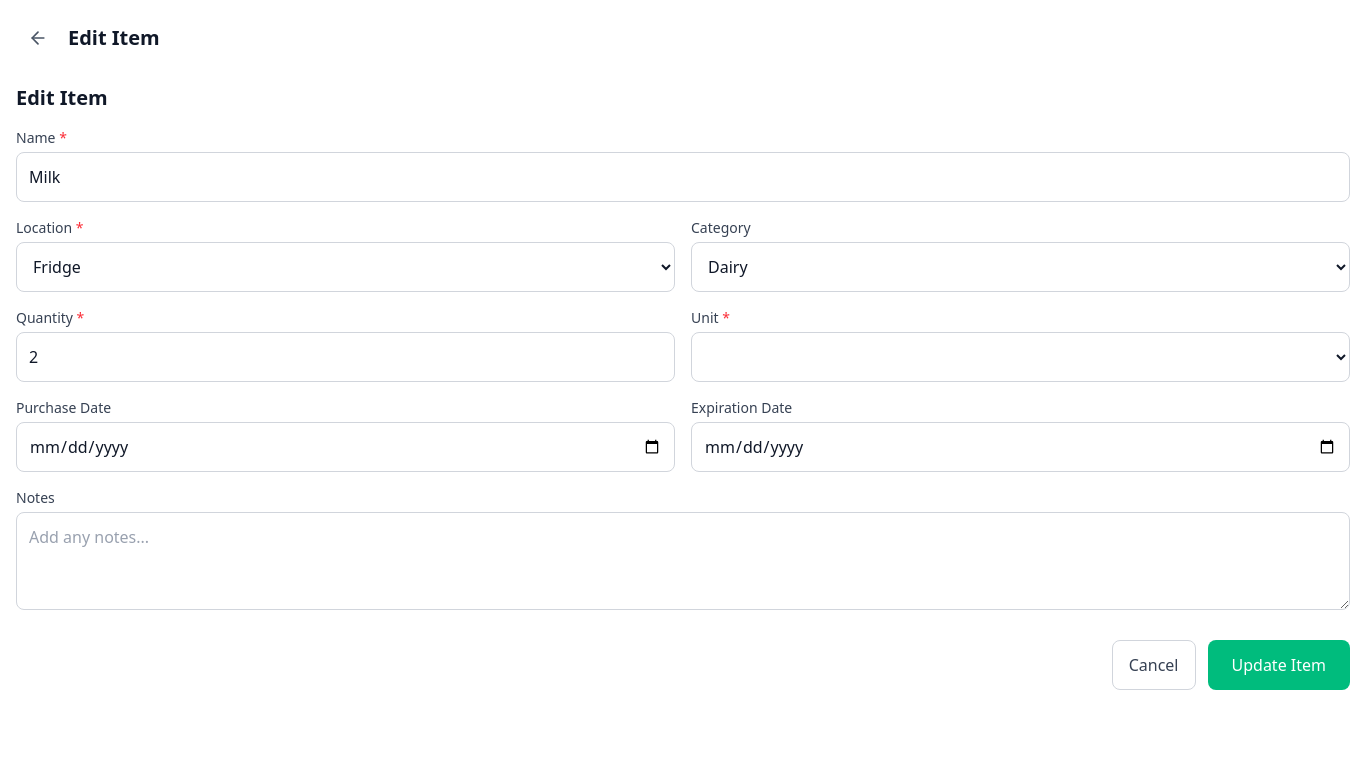
Test case: EditItemPage › does not update or delete when quantity 0 confirm is cancelled
Replace the text in the number field labelled "Quantity *" with "0": point(346, 357) [16, 332, 675, 382]
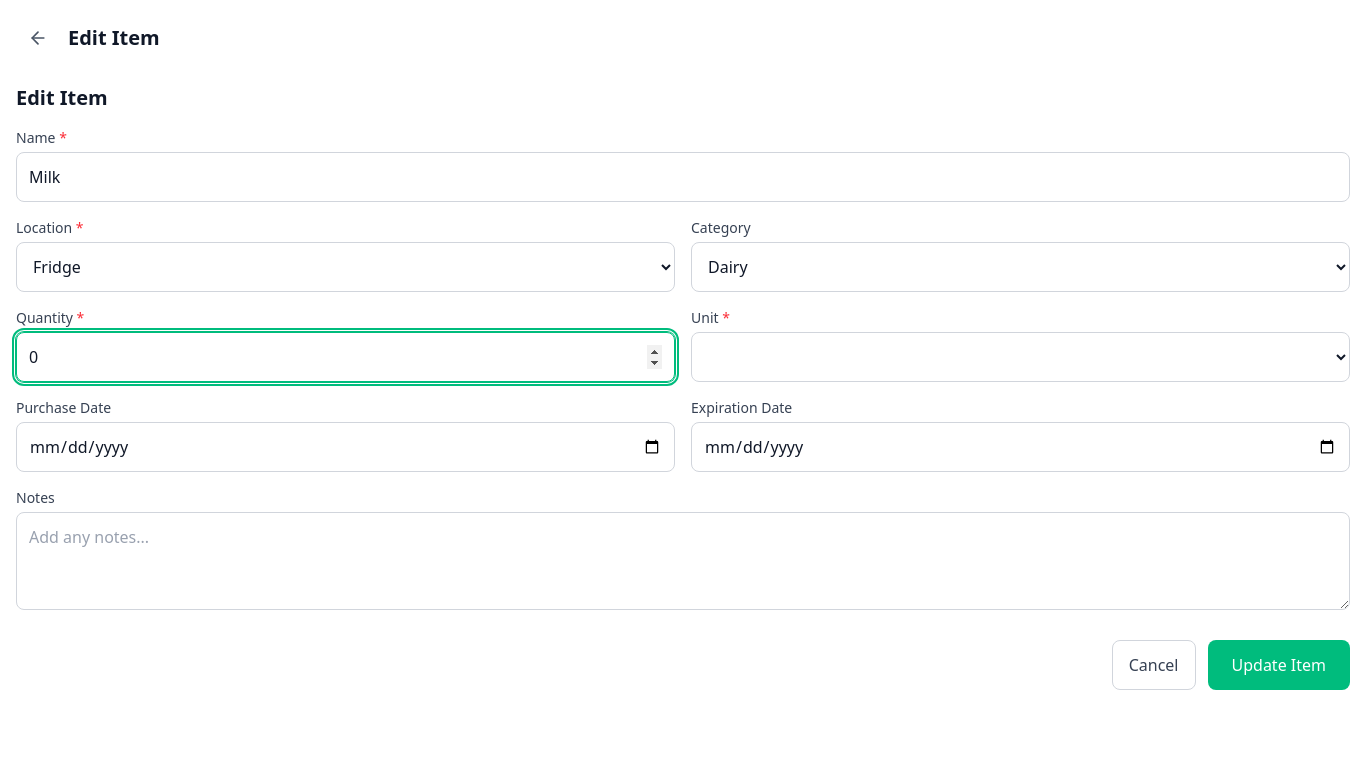
Click the button "Update Item": point(1279, 665) [1208, 640, 1350, 690]
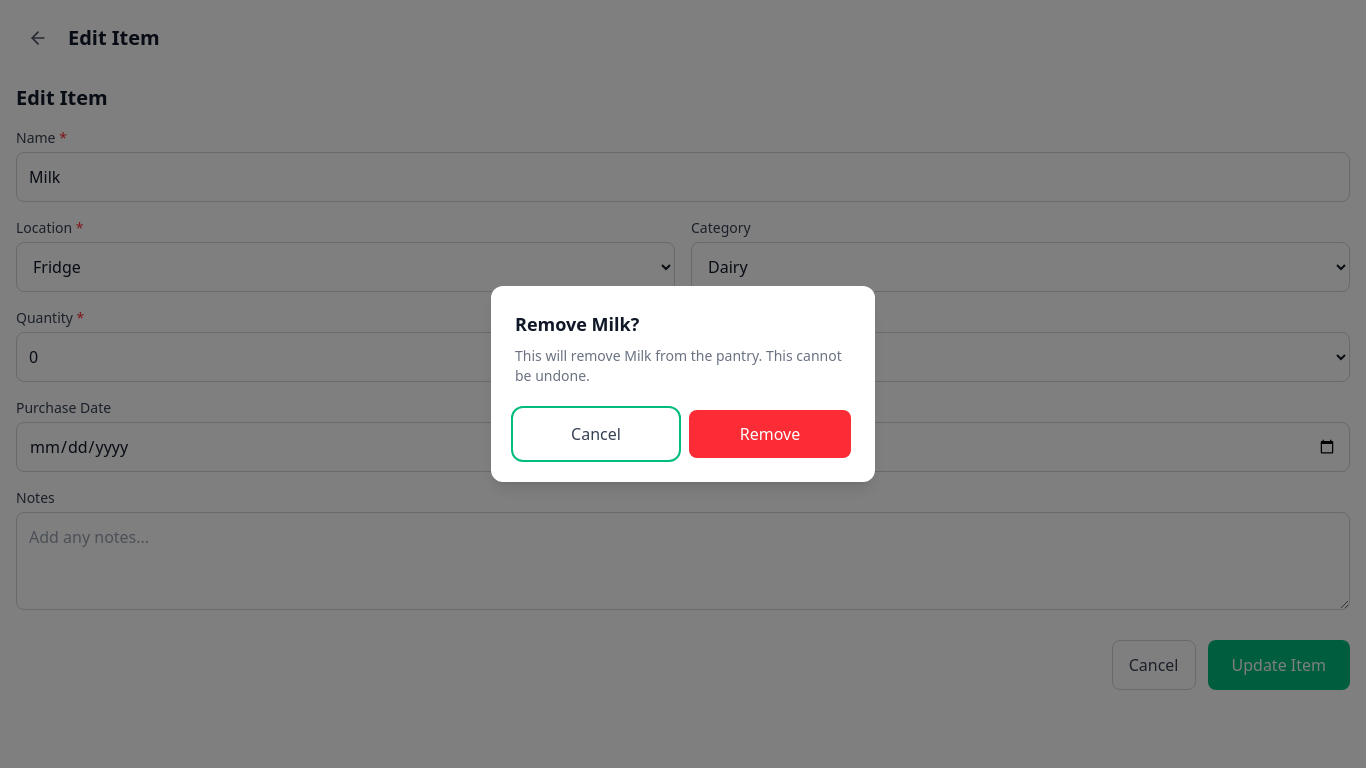
Click the button "Cancel": point(596, 434) [515, 410, 677, 458]
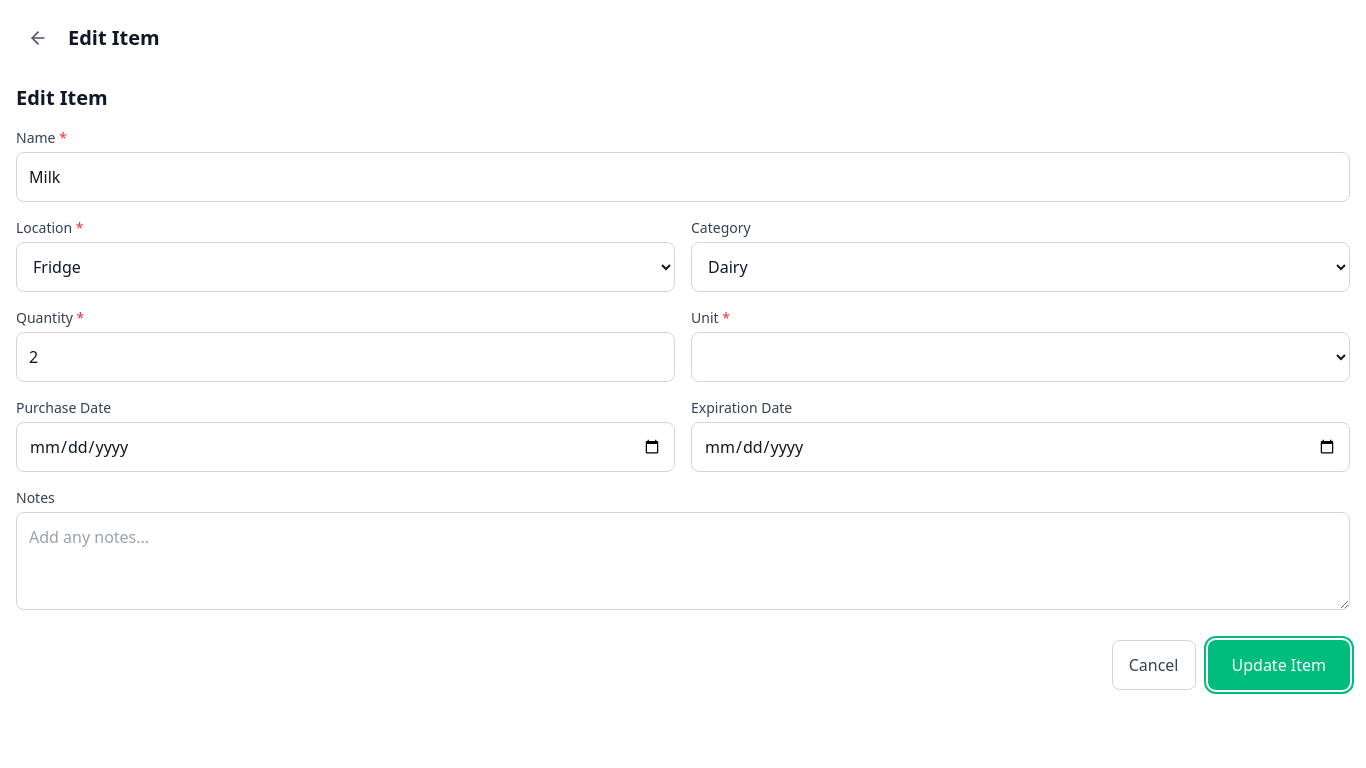
Expected: the number field labelled "Quantity *" holds "2", [16, 332, 675, 382]
